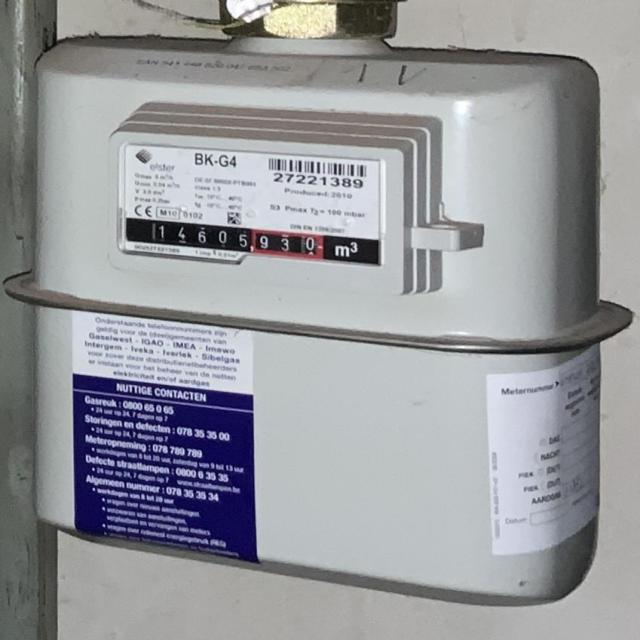gaz_meter: (118, 141, 383, 273)
indication: (128, 215, 325, 258)
